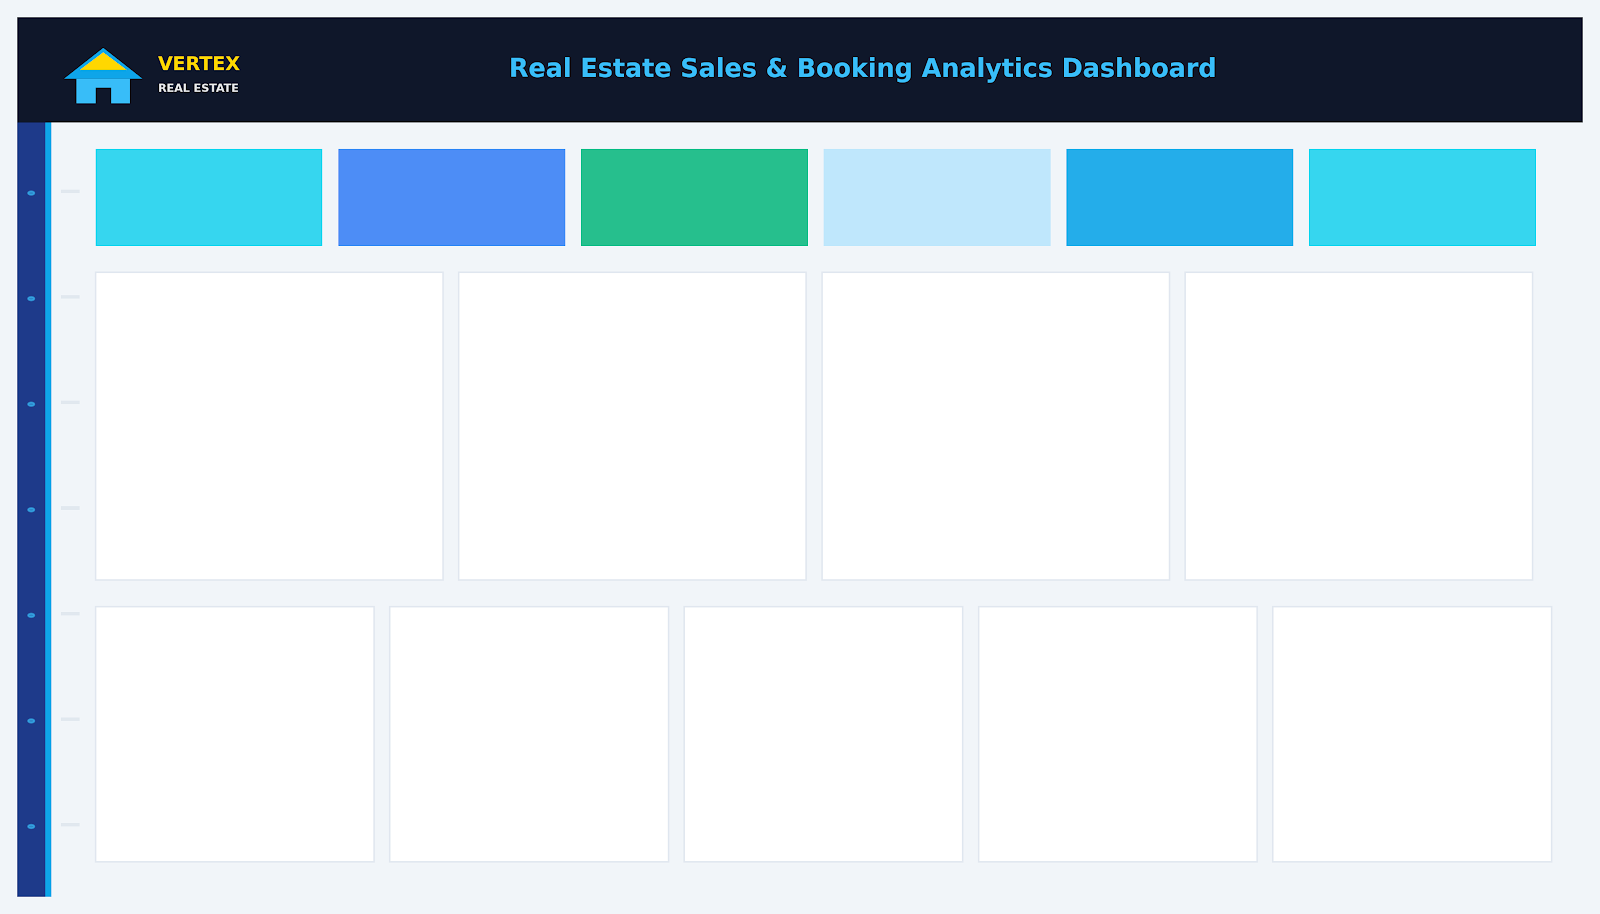

Layout of this report page (visuals, bound fields, positions):
{"tool":"powerbi","page":{"name":"Executive Overview","canvas":[1280,720],"ordinal":0},"visuals":[{"type":"card","fields":{"Values":["Measures (2).Total Sales"]},"box":[100,88.6,172.9,110],"z":1000},{"type":"card","fields":{"Values":["Measures (2).Total Bookings"]},"box":[294.3,87.1,177.1,110],"z":2000},{"type":"card","fields":{"Values":["Measures (2).Total Customers"]},"box":[500,92.9,167.1,107.1],"z":3000},{"type":"card","fields":{"Values":["Measures (2).Collection %"]},"box":[688.6,91.4,177.1,111.4],"z":4000},{"type":"card","fields":{"Values":["Measures (2).Total Balance Due"]},"box":[885.7,92.9,182.9,110],"z":5000},{"type":"card","fields":{"Values":["Advanced_KPI_Measures.Average Booking Value"]},"box":[1075.7,87.1,204.3,118.6],"z":6000},{"type":"lineChart","fields":{"Category":["Date_Table.Month Year"],"Y":["Measures (2).Total Sales"]},"box":[944.3,210,335.7,240],"z":7000},{"type":"clusteredBarChart","fields":{"Category":["Locations.City"],"Y":["Measures (2).Total Sales"]},"box":[667.1,210,252.9,244.3],"z":8000},{"type":"donutChart","fields":{"Category":["Bookings.Booking_Status"],"Y":["Measures (2).Total Bookings"]},"box":[100,210,264.3,254.3],"z":9000},{"type":"clusteredColumnChart","fields":{"Category":["Bookings.Configuration"],"Y":["Measures (2).Total Bookings"]},"box":[374.3,210,265.7,244.3],"z":10000},{"type":"slicer","fields":{"Values":["Date_Table.Year"]},"box":[100,480,208.6,240],"z":11000},{"type":"slicer","fields":{"Values":["Date_Table.Month"]},"box":[327.1,480,200,240],"z":12000},{"type":"slicer","fields":{"Values":["Locations.City"]},"box":[538.6,480,224.3,225.7],"z":13000},{"type":"slicer","fields":{"Values":["Bookings.Booking_Status"]},"box":[794.3,480,222.9,225.7],"z":14000},{"type":"slicer","fields":{"Values":["Bookings.Configuration"]},"box":[1037.1,480,242.9,240],"z":15000}]}

Visuals, with their boxes on the page's 1280x720 design canvas (x1, y1, x2, y2). These are canvas units, not pixel positions in the 1600x914 screenshot, which may show the page scaled, cropped or inside an application window:
card - Measures (2).Total Sales: l=100, t=89, r=273, b=199
card - Measures (2).Total Bookings: l=294, t=87, r=471, b=197
card - Measures (2).Total Customers: l=500, t=93, r=667, b=200
card - Measures (2).Collection %: l=689, t=91, r=866, b=203
card - Measures (2).Total Balance Due: l=886, t=93, r=1069, b=203
card - Advanced_KPI_Measures.Average Booking Value: l=1076, t=87, r=1280, b=206
lineChart - Date_Table.Month Year x Measures (2).Total Sales: l=944, t=210, r=1280, b=450
clusteredBarChart - Locations.City x Measures (2).Total Sales: l=667, t=210, r=920, b=454
donutChart - Bookings.Booking_Status x Measures (2).Total Bookings: l=100, t=210, r=364, b=464
clusteredColumnChart - Bookings.Configuration x Measures (2).Total Bookings: l=374, t=210, r=640, b=454
slicer - Date_Table.Year: l=100, t=480, r=309, b=720
slicer - Date_Table.Month: l=327, t=480, r=527, b=720
slicer - Locations.City: l=539, t=480, r=763, b=706
slicer - Bookings.Booking_Status: l=794, t=480, r=1017, b=706
slicer - Bookings.Configuration: l=1037, t=480, r=1280, b=720
